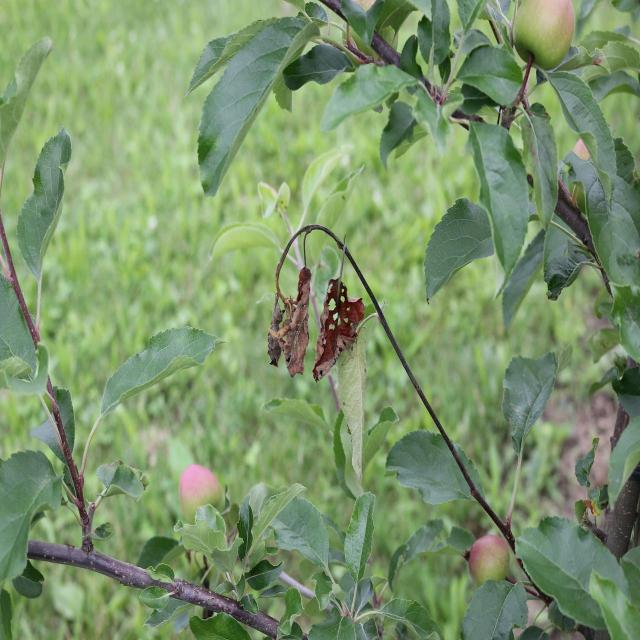-FireBlight-: (259, 240, 368, 381)
